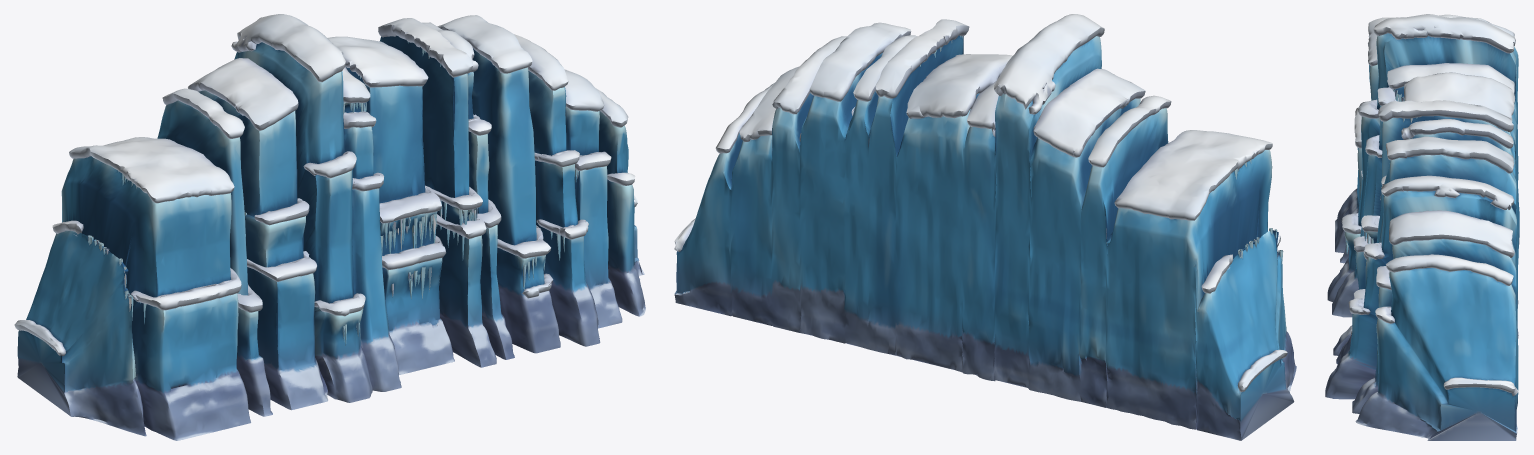
The model's file is FP_B03_GlacierCliff.fbx.
The picture shows the model from 3 angles, left to right: view 1: azimuth 30°, elevation 25°; view 2: azimuth 150°, elevation 25°; view 3: azimuth 270°, elevation 25°; orthographic projection. The views are drawn at different scales.
Parts seen in each view (by area): view 1: Ice_LOD0, SnowCap_LOD0, Icicles_LOD0; view 2: Ice_LOD0, SnowCap_LOD0; view 3: Ice_LOD0, SnowCap_LOD0, Icicles_LOD0.
Part boxes in pixels (x1,y1,x2,y2): Ice_LOD0: (17, 36, 645, 440); SnowCap_LOD0: (14, 14, 637, 355); Icicles_LOD0: (87, 41, 578, 345); Ice_LOD0: (674, 35, 1296, 440); SnowCap_LOD0: (674, 14, 1287, 392); Ice_LOD0: (1325, 33, 1519, 440); SnowCap_LOD0: (1341, 14, 1518, 395); Icicles_LOD0: (1345, 89, 1417, 253).
Size of what is drawn, in the model's own units: 30 by 16 by 10.
